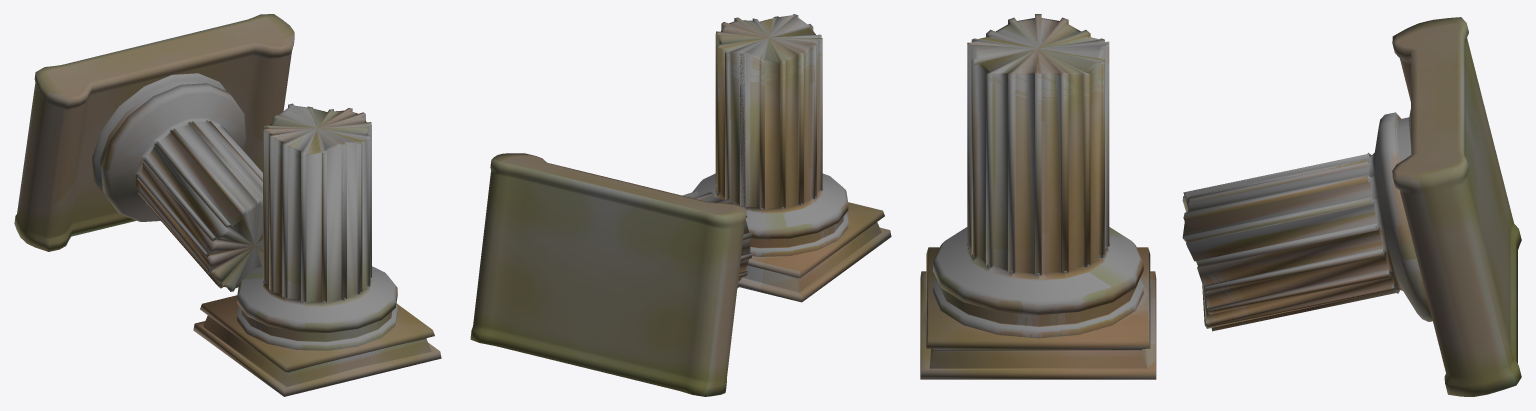
File: PillarOldWithInner.glb
The picture shows the model from 3 angles, left to right: view 1: azimuth 30°, elevation 25°; view 2: azimuth 150°, elevation 25°; view 3: azimuth 270°, elevation 25°; orthographic projection. The views are drawn at different scales.
Visible parts, largest first — view 1: PillarOld; view 2: PillarOld; view 3: PillarOld.
Boxes of the visible parts, x1,y1,x2,y2 form: PillarOld: [14, 14, 441, 396]; PillarOld: [470, 14, 891, 396]; PillarOld: [920, 14, 1521, 396].
Size of the model in its own units: 1.77 by 1.5 by 2.85.
Materials: 1 (1 with a texture image).
